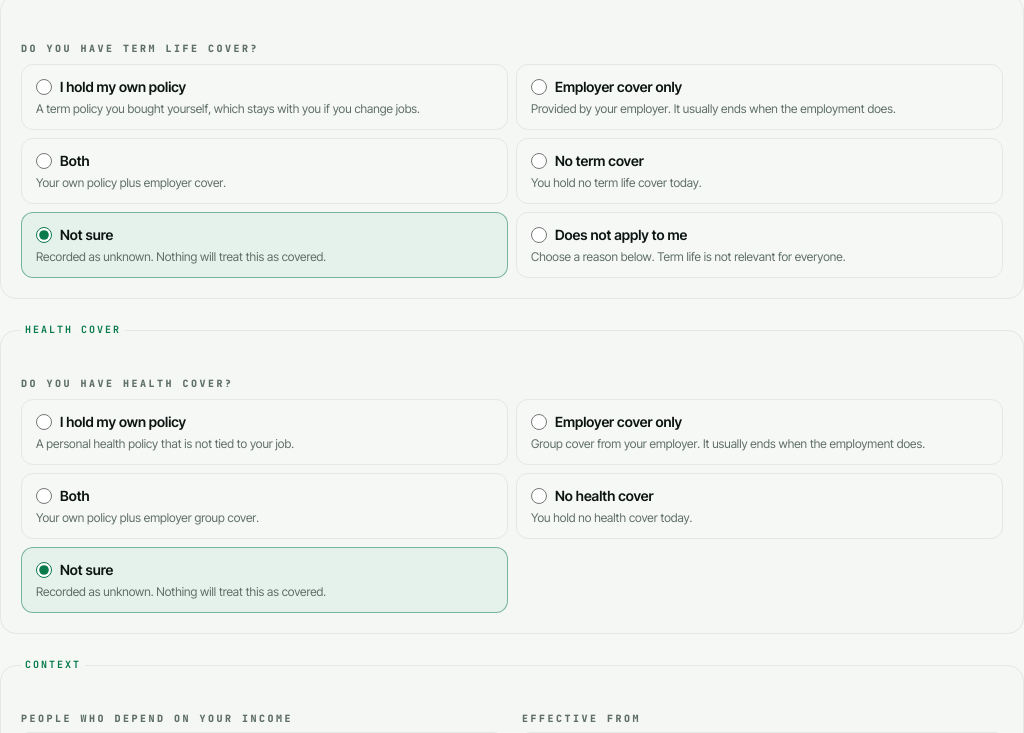
ProtectionProfileForm conditional fields › keeps base cover and super top-up as separate fields
The width and height of the screenshot is (1024, 733).
Click the radio button labelled "I hold my own policy" at [44, 422], box [36,414,52,430]
(page scrolled)
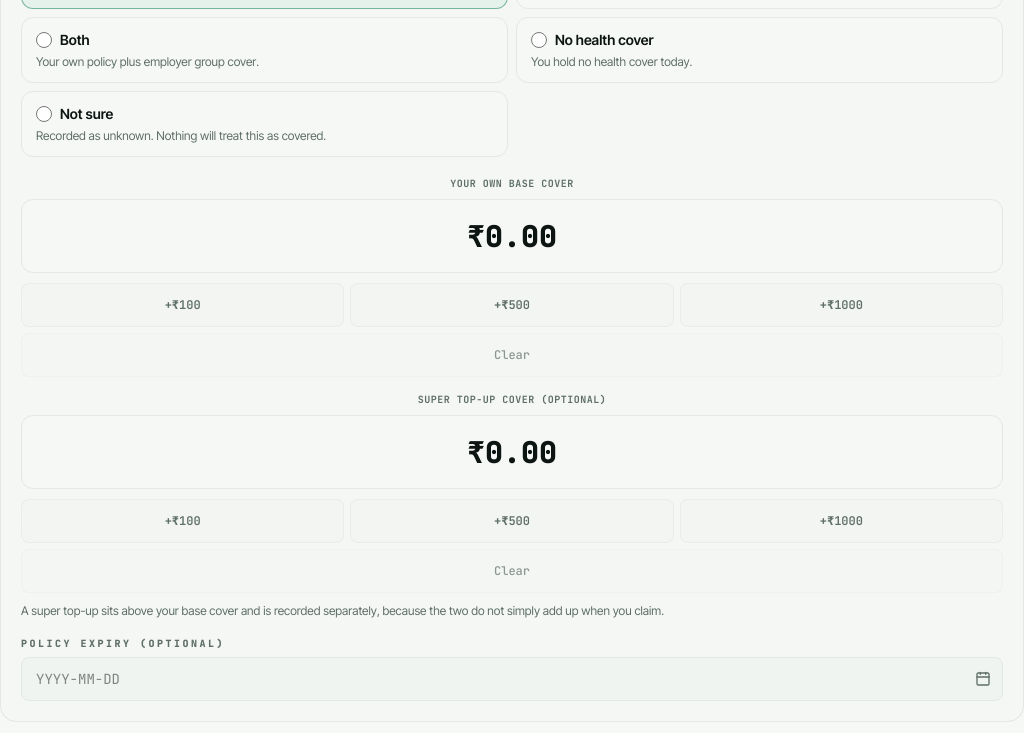
Check: the field labelled "Your own base cover" is shown, box [21,199,1003,273]
Check: the field labelled "Super top-up cover (optional)" is shown, box [21,415,1003,489]
